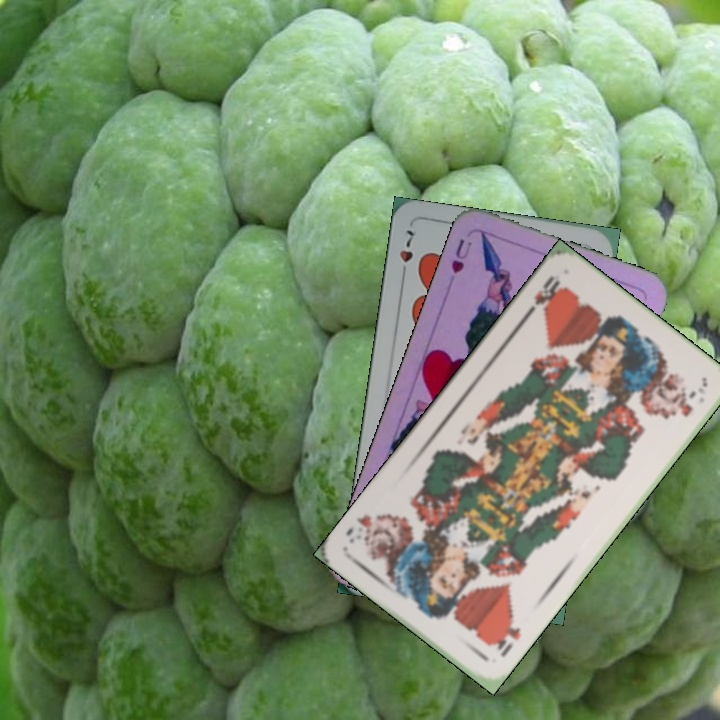H7: (396, 225, 417, 283)
HO: (521, 271, 564, 320), (488, 611, 524, 660)
HU: (447, 234, 475, 276)
